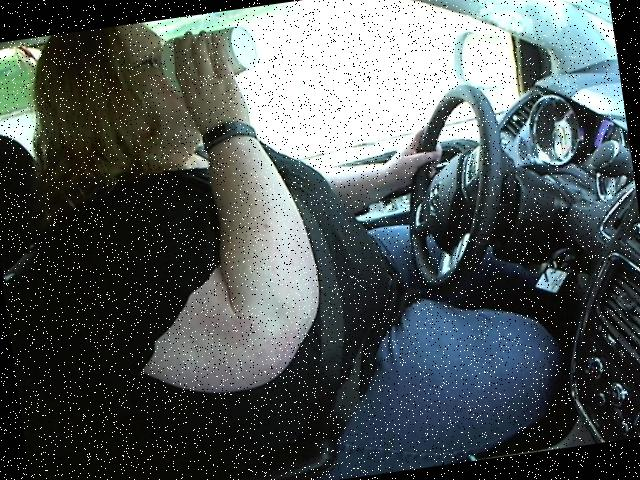c4 - Drinking: (22, 0, 561, 416)
